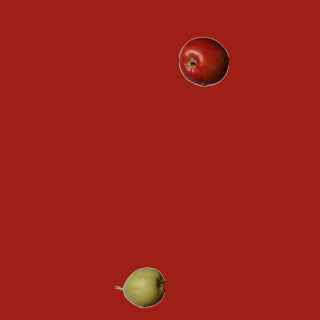Apple Braeburn: (178, 36, 228, 86)
Pear: (114, 262, 164, 312)
